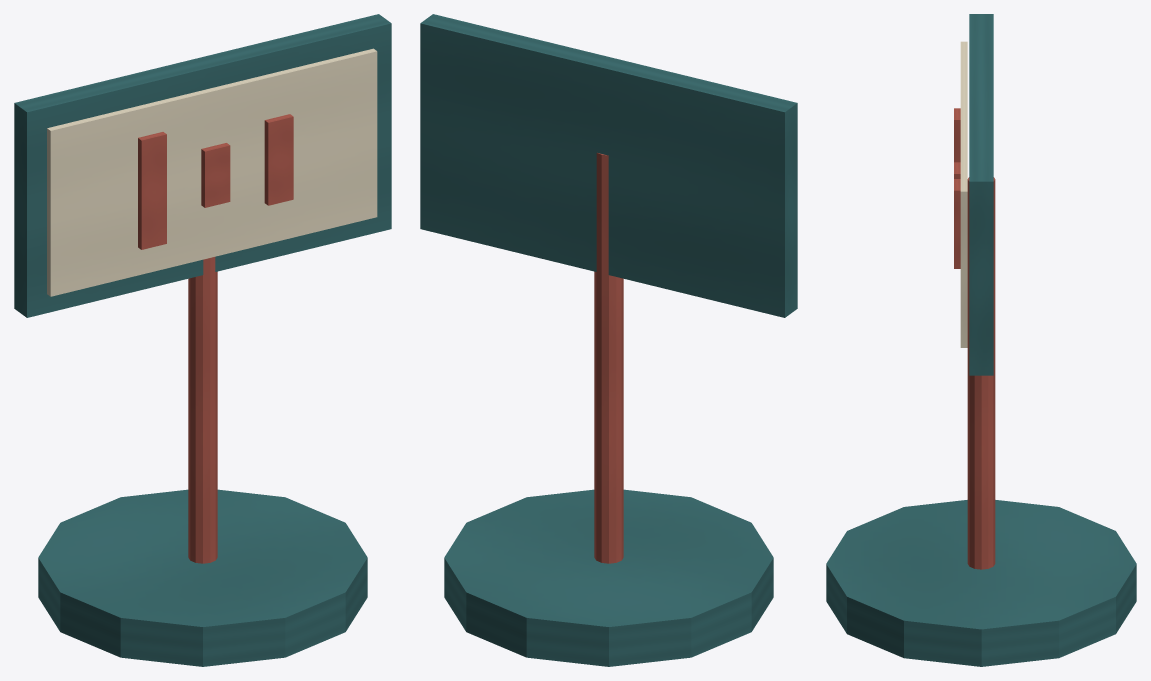
Rendered from atlas100-s032-a11.glb.
3 views of the same model, side by side, from view 1: azimuth 30°, elevation 25°; view 2: azimuth 150°, elevation 25°; view 3: azimuth 270°, elevation 25° (orthographic). The views are drawn at different scales.
Visible parts, largest first — view 1: atlas100-s032-a11:part-003, atlas100-s032-a11:part-000, atlas100-s032-a11:part-002, atlas100-s032-a11:part-001, atlas100-s032-a11:part-004, atlas100-s032-a11:part-006, atlas100-s032-a11:part-005; view 2: atlas100-s032-a11:part-002, atlas100-s032-a11:part-000, atlas100-s032-a11:part-001; view 3: atlas100-s032-a11:part-000, atlas100-s032-a11:part-002, atlas100-s032-a11:part-001, atlas100-s032-a11:part-003, atlas100-s032-a11:part-006.
Boxes of the visible parts, x1,y1,x2,y2 form: atlas100-s032-a11:part-003: [47, 48, 377, 296]; atlas100-s032-a11:part-000: [38, 489, 367, 666]; atlas100-s032-a11:part-002: [14, 14, 391, 317]; atlas100-s032-a11:part-001: [188, 257, 217, 563]; atlas100-s032-a11:part-004: [138, 132, 166, 249]; atlas100-s032-a11:part-006: [264, 114, 293, 205]; atlas100-s032-a11:part-005: [201, 143, 230, 207]; atlas100-s032-a11:part-002: [420, 14, 797, 317]; atlas100-s032-a11:part-000: [444, 489, 773, 666]; atlas100-s032-a11:part-001: [594, 153, 623, 563]; atlas100-s032-a11:part-000: [826, 500, 1136, 666]; atlas100-s032-a11:part-002: [969, 14, 993, 375]; atlas100-s032-a11:part-001: [967, 177, 995, 569]; atlas100-s032-a11:part-003: [960, 41, 967, 347]; atlas100-s032-a11:part-006: [954, 179, 960, 268].
Bounding box in the file's own units: 1.15 × 1.61 × 0.9.
Materials: 3 (3 with a texture image).
